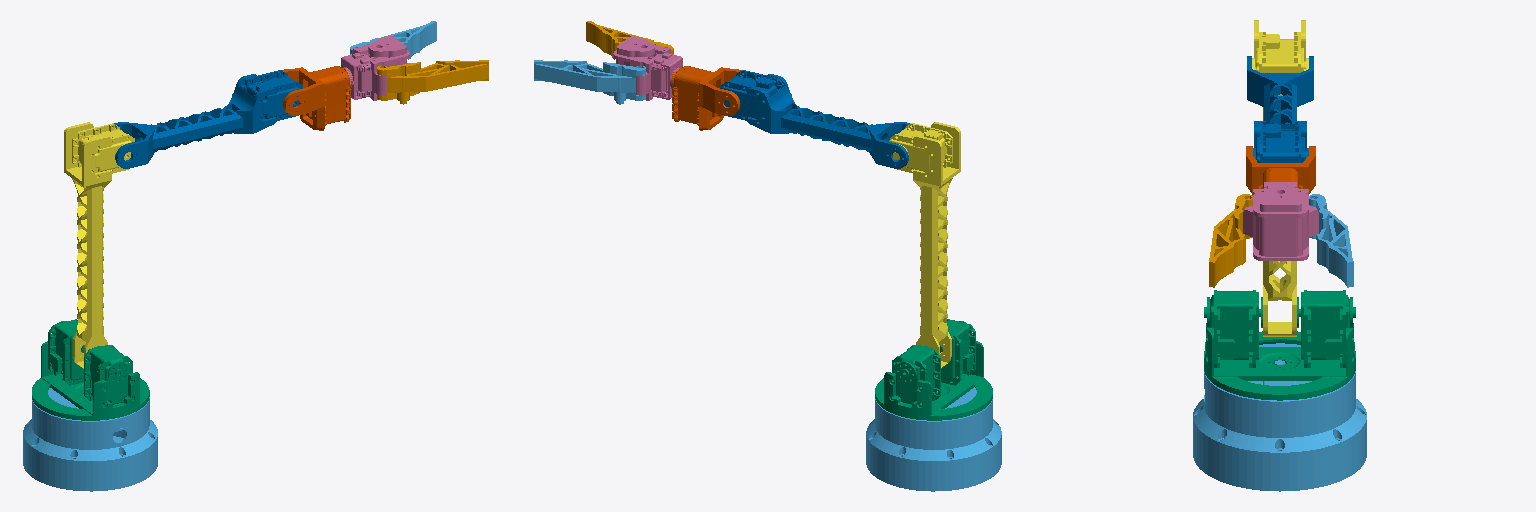
robot.urdf — snacbot:
<?xml version="1.0" ?>
<!-- =================================================================================== -->
<!-- |    This document was autogenerated by xacro from snacbot.xacro                  | -->
<!-- |    EDITING THIS FILE BY HAND IS NOT RECOMMENDED                                 | -->
<!-- =================================================================================== -->
<robot name="snacbot">
  <link name="world"/>
  <link name="base_link">
    <inertial>
      <origin rpy="0 0 0" xyz="0.0023657954446381375 -6.614240985321828e-05 0.03556496392903804"/>
      <mass value="1.5030270945970066"/>
      <inertia ixx="0.002425" ixy="1e-06" ixz="-4.8e-05" iyy="0.002489" iyz="-1e-05" izz="0.003322"/>
    </inertial>
    <visual>
      <origin rpy="0 0 0" xyz="0 0 0"/>
      <geometry>
        <mesh filename="package://snacbot_description/meshes/base_link.stl" scale="0.001 0.001 0.001"/>
      </geometry>
      <material name="silver"/>
    </visual>
    <collision>
      <origin rpy="0 0 0" xyz="0 0 0"/>
      <geometry>
        <mesh filename="package://snacbot_description/meshes/base_link.stl" scale="0.001 0.001 0.001"/>
      </geometry>
    </collision>
  </link>
  <link name="shoulder_link">
    <inertial>
      <origin rpy="0 0 0" xyz="-3.5710799003101265e-16 -9.70255671027657e-16 0.021007556766470648"/>
      <mass value="0.9933845675779478"/>
      <inertia ixx="0.001482" ixy="0.0" ixz="-0.0" iyy="0.000491" iyz="-0.0" izz="0.001397"/>
    </inertial>
    <visual>
      <origin rpy="0 0 0" xyz="0.0 -0.0 -0.073675"/>
      <geometry>
        <mesh filename="package://snacbot_description/meshes/shoulder_link_1.stl" scale="0.001 0.001 0.001"/>
      </geometry>
      <material name="silver"/>
    </visual>
    <collision>
      <origin rpy="0 0 0" xyz="0.0 -0.0 -0.073675"/>
      <geometry>
        <mesh filename="package://snacbot_description/meshes/shoulder_link_1.stl" scale="0.001 0.001 0.001"/>
      </geometry>
    </collision>
  </link>
  <link name="arm_link">
    <inertial>
      <origin rpy="0 0 0" xyz="0.006643024417772186 0.009009733316364827 0.15284041528327338"/>
      <mass value="0.7694455801037552"/>
      <inertia ixx="0.003903" ixy="-1e-06" ixz="-0.000266" iyy="0.003957" iyz="-0.0" izz="0.00022"/>
    </inertial>
    <visual>
      <origin rpy="0 0 0" xyz="-0.0 0.009 -0.113675"/>
      <geometry>
        <mesh filename="package://snacbot_description/meshes/arm_link_1.stl" scale="0.001 0.001 0.001"/>
      </geometry>
      <material name="silver"/>
    </visual>
    <collision>
      <origin rpy="0 0 0" xyz="-0.0 0.009 -0.113675"/>
      <geometry>
        <mesh filename="package://snacbot_description/meshes/arm_link_1.stl" scale="0.001 0.001 0.001"/>
      </geometry>
    </collision>
  </link>

  <link name="forearm_link">
    <inertial>
      <origin rpy="0 0 0" xyz="0.12530362498320322 0.02051079804018362 0.007019037615682622"/>
      <mass value="0.6930776096733422"/>
      <inertia ixx="0.000161" ixy="-2e-06" ixz="-0.000204" iyy="0.002362" iyz="-0.0" izz="0.00239"/>
    </inertial>
    <visual>
      <origin rpy="0 0 0" xyz="-0.027 0.020075 -0.317875"/>
      <geometry>
        <mesh filename="package://snacbot_description/meshes/forearm_link_1.stl" scale="0.001 0.001 0.001"/>
      </geometry>
      <material name="silver"/>
    </visual>
    <collision>
      <origin rpy="0 0 0" xyz="-0.027 0.020075 -0.317875"/>
      <geometry>
        <mesh filename="package://snacbot_description/meshes/forearm_link_1.stl" scale="0.001 0.001 0.001"/>
      </geometry>
    </collision>
  </link>
  <link name="hand_link">
    <inertial>
      <origin rpy="0 0 0" xyz="0.04152167158553119 0.02011849033469139 -0.010784557589962995"/>
      <mass value="0.4498637120159831"/>
      <inertia ixx="0.000148" ixy="1e-06" ixz="2.7e-05" iyy="0.000224" iyz="-0.0" izz="0.000198"/>
    </inertial>
    <visual>
      <origin rpy="0 0 0" xyz="-0.2078 0.01965 -0.330375"/>
      <geometry>
        <mesh filename="package://snacbot_description/meshes/hand_link_1.stl" scale="0.001 0.001 0.001"/>
      </geometry>
      <material name="silver"/>
    </visual>
    <collision>
      <origin rpy="0 0 0" xyz="-0.2078 0.01965 -0.330375"/>
      <geometry>
        <mesh filename="package://snacbot_description/meshes/hand_link_1.stl" scale="0.001 0.001 0.001"/>
      </geometry>
    </collision>
  </link>
  <link name="palm_link">
    <inertial>
      <origin rpy="0 0 0" xyz="0.03514107719512616 0.00028468032824946964 0.0011739025280478876"/>
      <mass value="0.5485700850055245"/>
      <inertia ixx="0.00015" ixy="-0.0" ixz="-1.2e-05" iyy="0.000191" iyz="-0.0" izz="0.0002"/>
    </inertial>
    <visual>
      <origin rpy="0 0 0" xyz="-0.27311 -0.00045 -0.330325"/>
      <geometry>
        <mesh filename="package://snacbot_description/meshes/palm_link_1.stl" scale="0.001 0.001 0.001"/>
      </geometry>
      <material name="silver"/>
    </visual>
    <collision>
      <origin rpy="0 0 0" xyz="-0.27311 -0.00045 -0.330325"/>
      <geometry>
        <mesh filename="package://snacbot_description/meshes/palm_link_1.stl" scale="0.001 0.001 0.001"/>
      </geometry>
    </collision>
  </link>
  <link name="gripper_driving_link">
    <inertial>
      <origin rpy="0 0 0" xyz="-4.267483755260315e-09 7.6050195998832865e-06 0.002017482694919248"/>
      <mass value="0.009329279902749366"/>
      <inertia ixx="0.0" ixy="-0.0" ixz="-0.0" iyy="0.0" iyz="-0.0" izz="1e-06"/>
    </inertial>
    <visual>
      <origin rpy="0 0 0" xyz="-0.32015 -0.000756 -0.309525"/>
      <geometry>
        <mesh filename="package://snacbot_description/meshes/gripper_driving_link_1.stl" scale="0.001 0.001 0.001"/>
      </geometry>
      <material name="silver"/>
    </visual>
    <collision>
      <origin rpy="0 0 0" xyz="-0.32015 -0.000756 -0.309525"/>
      <geometry>
        <mesh filename="package://snacbot_description/meshes/gripper_driving_link_1.stl" scale="0.001 0.001 0.001"/>
      </geometry>
    </collision>
  </link>
  <link name="finger1_link">
    <inertial>
      <origin rpy="0 0 0" xyz="0.04341596099355033 0.00717258179909807 0.009580165880901437"/>
      <mass value="0.14441482713674805"/>
      <inertia ixx="2e-05" ixy="-2.9e-05" ixz="-2e-06" iyy="0.000111" iyz="-1e-06" izz="0.000116"/>
    </inertial>
    <visual>
      <origin rpy="0 0 0" xyz="-0.30115 0.023244 -0.320325"/>
      <geometry>
        <mesh filename="package://snacbot_description/meshes/finger1_link_1.stl" scale="0.001 0.001 0.001"/>
      </geometry>
      <material name="silver"/>
    </visual>
    <collision>
      <origin rpy="0 0 0" xyz="-0.30115 0.023244 -0.320325"/>
      <geometry>
        <mesh filename="package://snacbot_description/meshes/finger1_link_1.stl" scale="0.001 0.001 0.001"/>
      </geometry>
    </collision>
  </link>
  <link name="finger2_link">
    <inertial>
      <origin rpy="0 0 0" xyz="0.043415960993547276 -0.007172063661821274 0.009580165880900049"/>
      <mass value="0.14441482713674192"/>
      <inertia ixx="2e-05" ixy="2.9e-05" ixz="-2e-06" iyy="0.000111" iyz="1e-06" izz="0.000116"/>
    </inertial>
    <visual>
      <origin rpy="0 0 0" xyz="-0.30115 -0.024756 -0.320325"/>
      <geometry>
        <mesh filename="package://snacbot_description/meshes/finger2_link_1.stl" scale="0.001 0.001 0.001"/>
      </geometry>
      <material name="silver"/>
    </visual>
    <collision>
      <origin rpy="0 0 0" xyz="-0.30115 -0.024756 -0.320325"/>
      <geometry>
        <mesh filename="package://snacbot_description/meshes/finger2_link_1.stl" scale="0.001 0.001 0.001"/>
      </geometry>
    </collision>
  </link>
  <link name="ee_link">
    <origin xyz="0 0 0" rpy="0 0 0"/>
  </link>
  <joint name="base_joint" type="fixed">
    <parent link="world"/>
    <child link="base_link"/>
  </joint>
  <joint name="waist_joint" type="revolute">
    <origin rpy="0 0 0" xyz="0.0 0.0 0.073675"/>
    <parent link="base_link"/>
    <child link="shoulder_link"/>
    <axis xyz="0.0 0.0 1.0"/>
    <limit lower="-3.14" upper="3.14" effort="300" velocity="4.01" />
  </joint>
  <joint name="shoulder_joint" type="revolute">
    <origin rpy="0 0 0" xyz="0.0 -0.009 0.04"/>
    <parent link="shoulder_link"/>
    <child link="arm_link"/>
    <axis xyz="0.0 1.0 0.0"/>
    <limit lower="-1.85" upper="1.85" effort="300" velocity="4.01" />
  </joint>
  <joint name="elbow_joint" type="revolute">
    <origin rpy="0 0 0" xyz="0.027 -0.011075 0.2042"/>
    <parent link="arm_link"/>
    <child link="forearm_link"/>
    <axis xyz="0.0 -1.0 0.0"/>
    <limit lower="-1.5" upper="1.6" effort="300" velocity="4.01" />
  </joint>
  <joint name="wrist_joint" type="revolute">
    <origin rpy="0 0 0" xyz="0.1808 0.000425 0.0125"/>
    <parent link="forearm_link"/>
    <child link="hand_link"/>
    <axis xyz="-0.0 -1.0 0.0"/>
    <limit lower="-1.6" upper="1.85" effort="300" velocity="4.01" />
  </joint>
  <joint name="palm_joint" type="revolute">
    <origin rpy="0 0 0" xyz="0.06531 0.0201 -5e-05"/>
    <parent link="hand_link"/>
    <child link="palm_link"/>
    <axis xyz="1.0 0.0 0.0"/>
    <limit lower="-1.6" upper="1.6" effort="300" velocity="4.01" />
  </joint>
  <joint name="gripper_joint" type="revolute">
    <origin rpy="0 0 0" xyz="0.04704 0.000306 -0.0208"/>
    <parent link="palm_link"/>
    <child link="gripper_driving_link"/>
    <axis xyz="-0.0 -0.0 1.0"/>
    <limit lower="0.26" upper="2.6" effort="300" velocity="4.01" />
  </joint>
  <joint name="finger1_joint" type="continuous">
    <origin rpy="0 0 0" xyz="0.02804 -0.023694 -0.01"/>
    <parent link="palm_link"/>
    <child link="finger1_link"/>
    <axis xyz="0.0 0.0 -1.0"/>
    <mimic joint="gripper_joint" multiplier="0.33" offset="0" />
  </joint>
  <joint name="finger2_joint" type="continuous">
    <origin rpy="0 0 0" xyz="0.02804 0.024306 -0.01"/>
    <parent link="palm_link"/>
    <child link="finger2_link"/>
    <axis xyz="0.0 0.0 -1.0"/>
    <mimic joint="gripper_joint" multiplier="-0.33" offset="0" />
  </joint>

  <joint name="ee_joint" type="fixed">
    <origin xyz="0.126 0.0 0.0" rpy="0 0 0"/>
    <parent link="palm_link"/>
    <child link="ee_link"/>
  </joint>

</robot>

--- Render facts (derived) ---
3 views of the same robot in one strip: view 1: azimuth 30°, elevation 25°; view 2: azimuth 150°, elevation 25°; view 3: azimuth 270°, elevation 25° (orthographic).
Robot: snacbot — 11 links, 10 joints (6 revolute, 2 continuous, 2 fixed); root link world; default pose: joints at zero except 1 at the middle of their limits (gripper_joint = 1.43, finger1_joint = 0.4719, finger2_joint = -0.4719).
Visible links, largest first — view 1: base_link, arm_link, shoulder_link, forearm_link, hand_link, finger1_link, palm_link, finger2_link; view 2: base_link, arm_link, shoulder_link, forearm_link, hand_link, finger2_link, palm_link, finger1_link; view 3: base_link, shoulder_link, forearm_link, palm_link, arm_link, finger2_link, finger1_link, hand_link.
Boxes of the visible links, box(x1,y1,x2,y2) form: base_link: box(23, 388, 157, 491); arm_link: box(64, 122, 134, 368); shoulder_link: box(32, 319, 149, 420); forearm_link: box(96, 70, 302, 168); hand_link: box(264, 66, 352, 130); finger1_link: box(377, 60, 488, 104); palm_link: box(341, 36, 409, 100); finger2_link: box(350, 21, 436, 59); base_link: box(866, 387, 1001, 491); arm_link: box(889, 122, 960, 368); shoulder_link: box(875, 319, 992, 420); forearm_link: box(720, 70, 927, 168); hand_link: box(670, 66, 759, 130); finger2_link: box(534, 60, 645, 104); palm_link: box(613, 36, 682, 100); finger1_link: box(586, 21, 673, 59); base_link: box(1193, 343, 1366, 491); shoulder_link: box(1204, 290, 1355, 400); forearm_link: box(1247, 56, 1313, 162); palm_link: box(1243, 182, 1318, 260); arm_link: box(1252, 20, 1308, 336); finger2_link: box(1309, 194, 1353, 287); finger1_link: box(1209, 194, 1252, 287); hand_link: box(1246, 146, 1315, 195).
Bounding box of the posed robot: 0.4641 × 0.126 × 0.3553 m (x, y, z).
9 mesh visuals loaded from 9 distinct referenced files (9 binary STL).